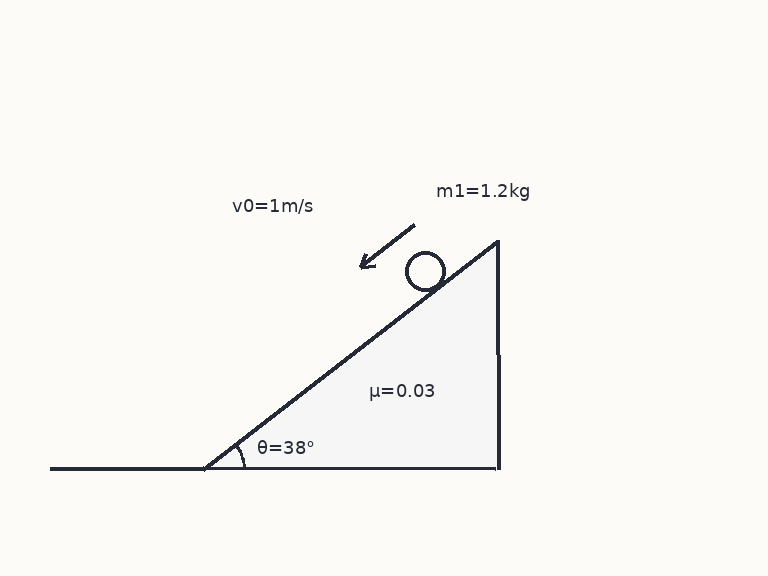ball: (403, 249, 447, 293)
ramp: (202, 239, 498, 471)
